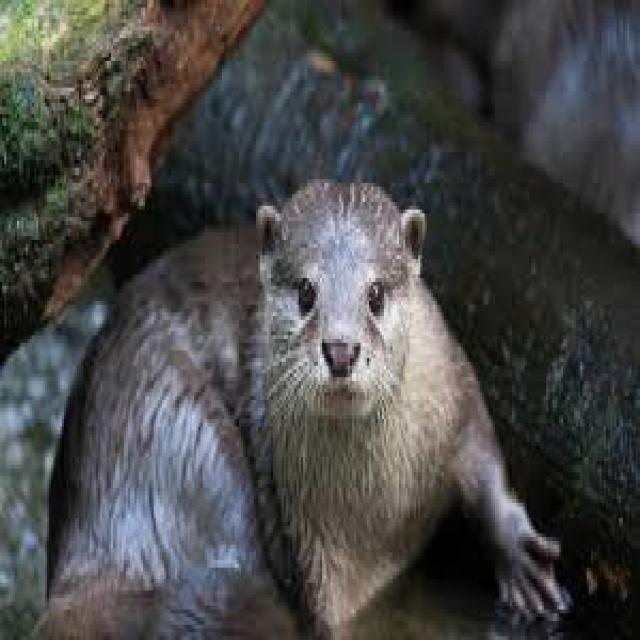otter: (34, 179, 567, 636)
